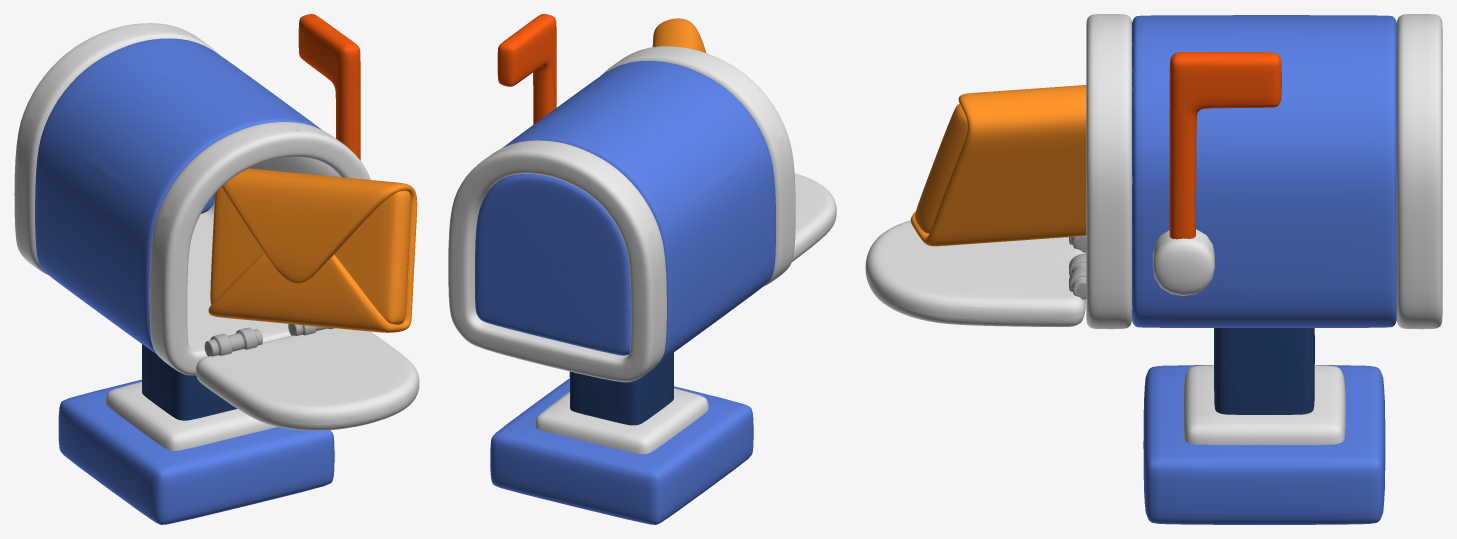
The model's file is mailbox.glb.
3 renders of one model, left to right at view 1: azimuth 30°, elevation 25°; view 2: azimuth 150°, elevation 25°; view 3: azimuth 270°, elevation 25°, orthographic. The views are drawn at different scales.
Parts seen in each view (by area): view 1: Cube.069; view 2: Cube.069; view 3: Cube.069.
Part boxes in pixels (bbox=[...]): Cube.069: bbox=[14, 14, 419, 524]; Cube.069: bbox=[448, 14, 836, 524]; Cube.069: bbox=[865, 14, 1442, 524].
Size of the model in its own units: 0.5606 by 0.9392 by 1.
